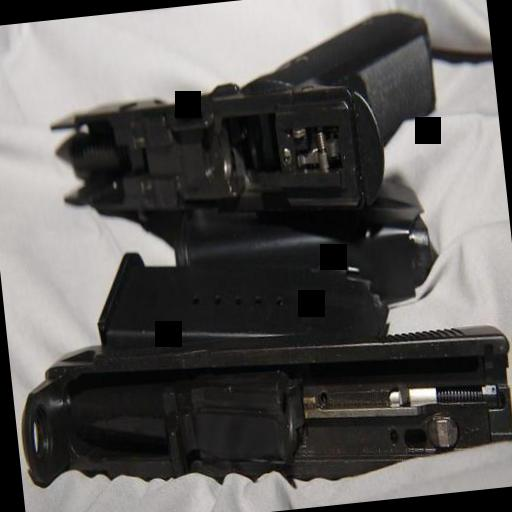Handgun: (0, 198, 512, 505), (37, 6, 446, 237)
